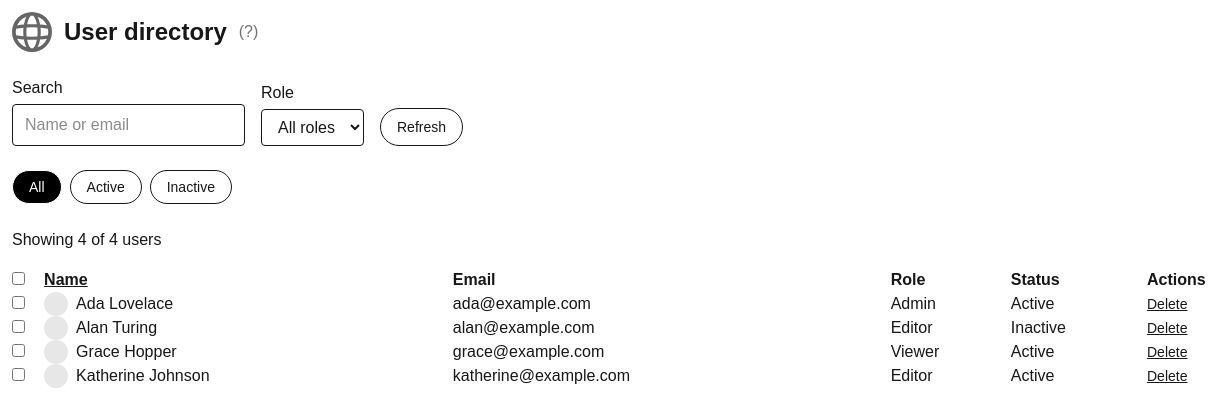
it: 4. getByText - visible copy › matches strings, substrings, regexes and functions
The image size is (1222, 405).
Check: the text "Showing 4 of" is shown, box [12,228,162,252]
Check: the number of tabs "Active" is 4, box [70,170,142,204]; [1011,292,1147,316]; [1011,340,1147,364]; [1011,364,1147,388]
Khali state.
Select "Admin" in the dropdown labelled "Role" at (312, 128), box [261,109,364,146]
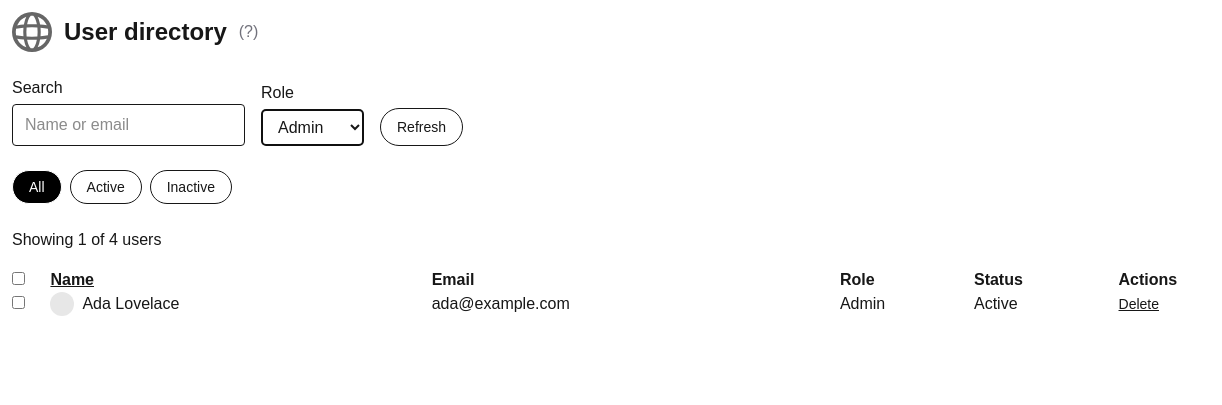
Click the tab "Inactive" at (191, 187), box [150,170,232,204]
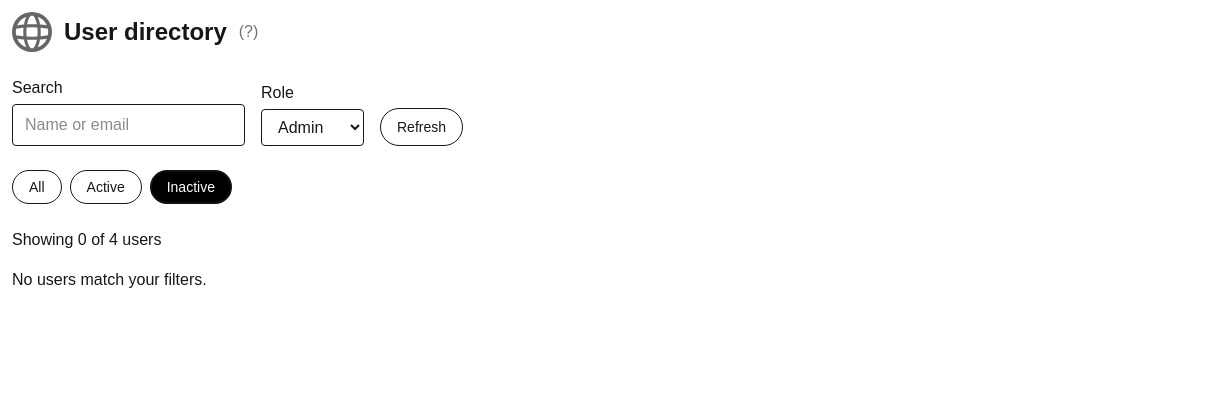
Check: the text "No users match your filters." is shown, box [12,271,207,288]
